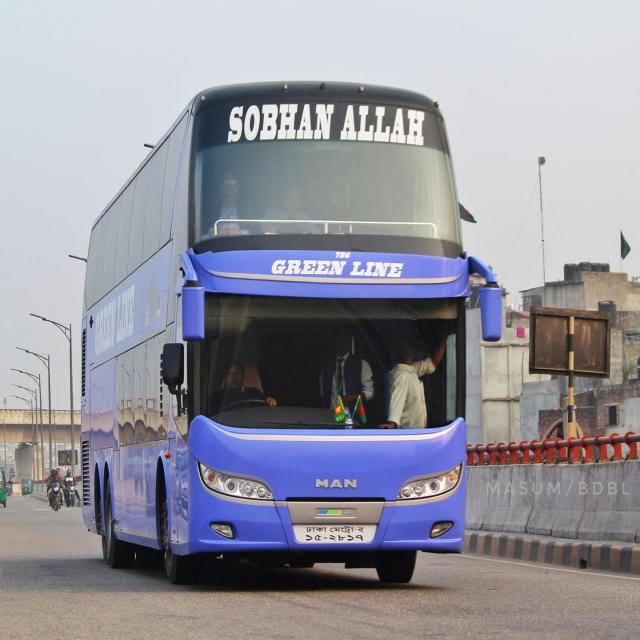Double decker: (80, 62, 513, 597)
